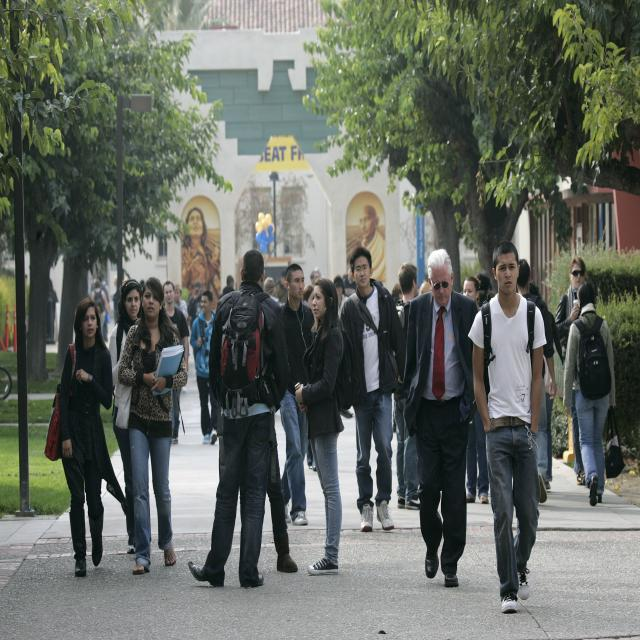body: (187, 246, 289, 590), (467, 237, 547, 615), (401, 248, 483, 590), (116, 275, 188, 575), (338, 244, 407, 534), (294, 276, 357, 577), (56, 297, 115, 578), (562, 279, 625, 506), (516, 258, 556, 504), (279, 264, 316, 528), (109, 279, 142, 554), (528, 281, 565, 490), (554, 256, 587, 486), (392, 261, 422, 511), (462, 275, 491, 504), (162, 280, 189, 444), (190, 290, 218, 446), (180, 205, 220, 294), (348, 200, 385, 276), (302, 284, 316, 472), (187, 280, 205, 364), (89, 277, 109, 341), (111, 274, 125, 344), (333, 276, 349, 320), (47, 279, 58, 340), (173, 283, 189, 321), (263, 276, 282, 308), (478, 272, 494, 303), (218, 275, 236, 302), (274, 277, 286, 302), (342, 276, 356, 296), (392, 282, 404, 304), (310, 268, 322, 288), (101, 279, 111, 303), (420, 274, 432, 294), (104, 313, 110, 343), (94, 269, 110, 279), (89, 274, 95, 290), (23, 270, 28, 286), (139, 276, 145, 288), (322, 252, 323, 254)
